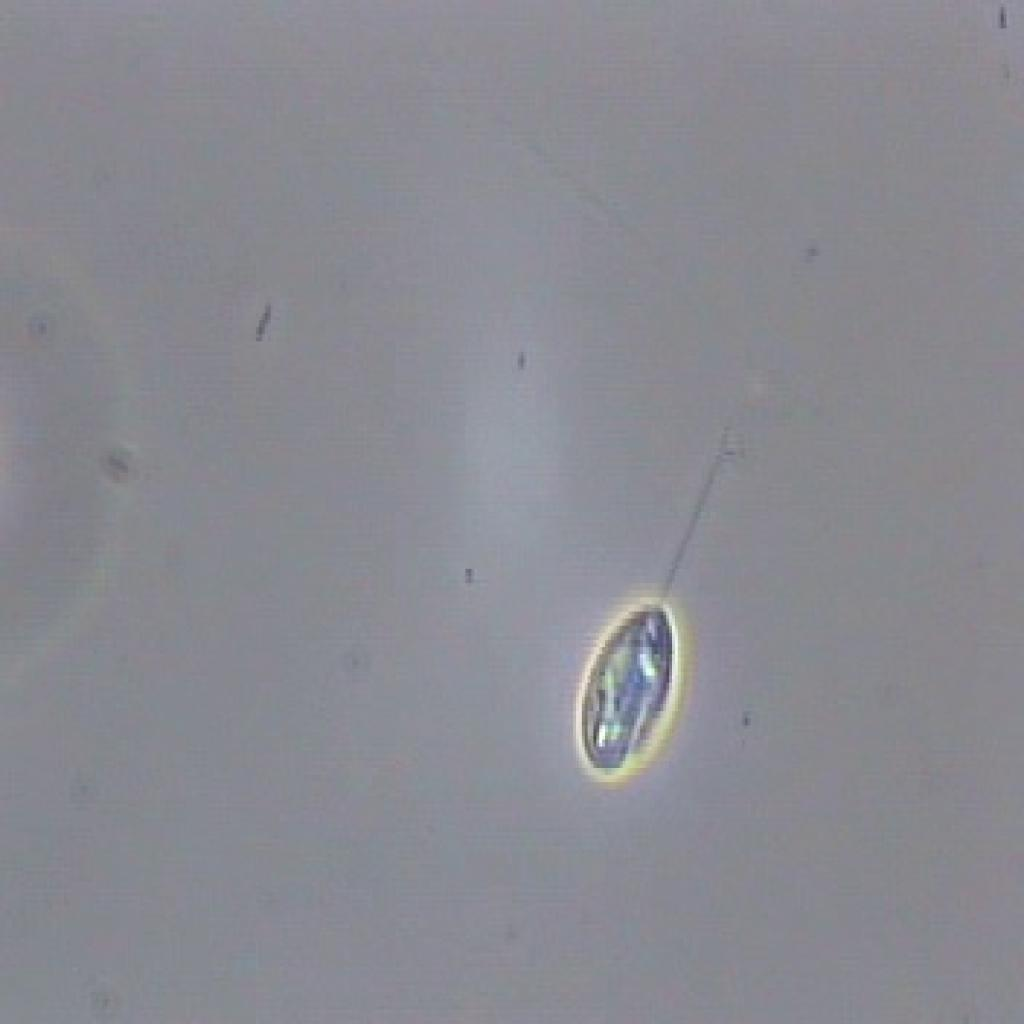Flagellates: (564, 430, 739, 800)
